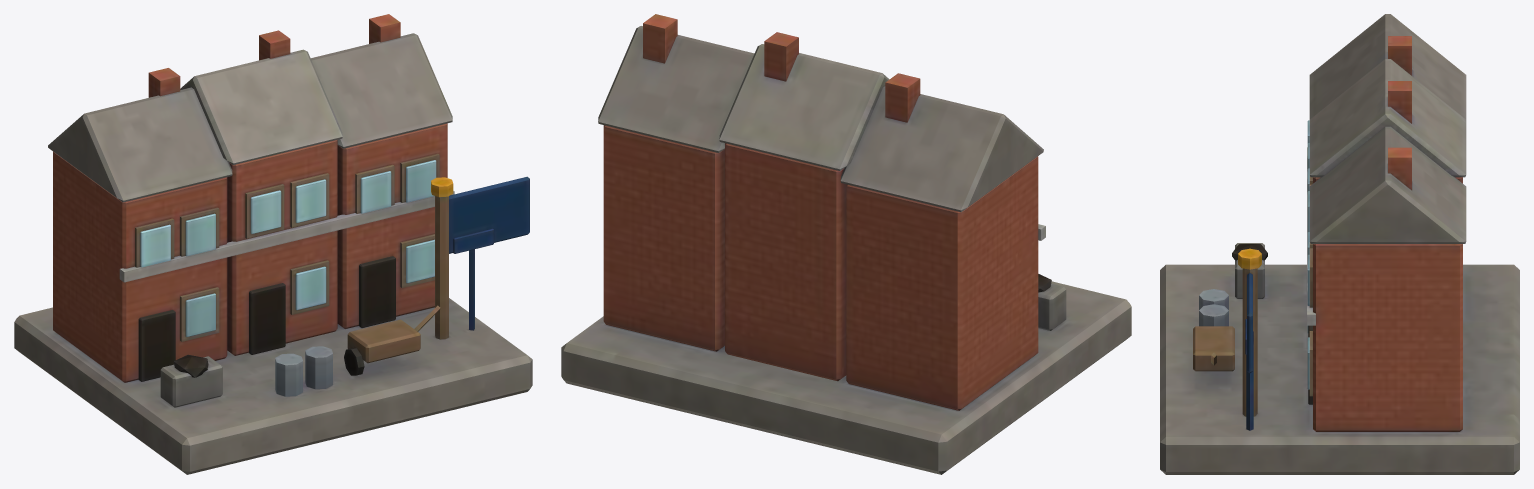
File: shelters-10.glb
3 renders of one model, left to right at view 1: azimuth 30°, elevation 25°; view 2: azimuth 150°, elevation 25°; view 3: azimuth 270°, elevation 25°, orthographic. The views are drawn at different scales.
Visible parts, largest first — view 1: shelters-10; view 2: shelters-10; view 3: shelters-10.
Boxes of the visible parts, <box> form: shelters-10: <box>14,14,532,474</box>; shelters-10: <box>561,14,1131,474</box>; shelters-10: <box>1160,14,1519,474</box>.
Size of the model in its own units: 1.55 by 1.17 by 1.2.
Materials: 1 (1 with a texture image).
